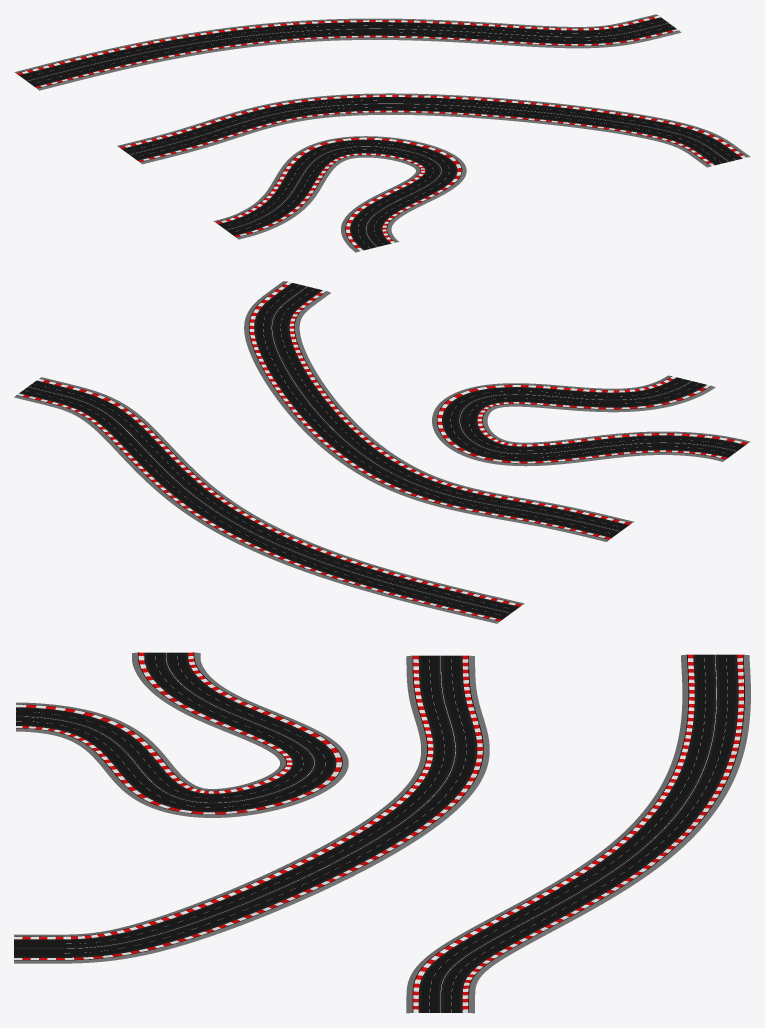
File: S0.2c1-1r3-3r2-triway.glb
The picture shows the model from 3 angles, top to bottom: view 1: azimuth 30°, elevation 25°; view 2: azimuth 150°, elevation 25°; view 3: azimuth 270°, elevation 25°; orthographic projection. The views are drawn at different scales.
Visible parts, largest first — view 1: Grid.002, Grid.001, Grid; view 2: Grid.002, Grid.001, Grid; view 3: Grid.001, Grid.002, Grid.
Part boxes in pixels (bbox=[...]): Grid.002: bbox=[14, 14, 681, 90]; Grid.001: bbox=[117, 93, 750, 167]; Grid: bbox=[213, 136, 466, 252]; Grid.002: bbox=[14, 377, 524, 623]; Grid.001: bbox=[244, 281, 634, 541]; Grid: bbox=[432, 375, 750, 466]; Grid.001: bbox=[14, 655, 489, 963]; Grid.002: bbox=[406, 654, 750, 1013]; Grid: bbox=[16, 652, 348, 817].
Size of the model in its own units: 311 by 0.31 by 268.
